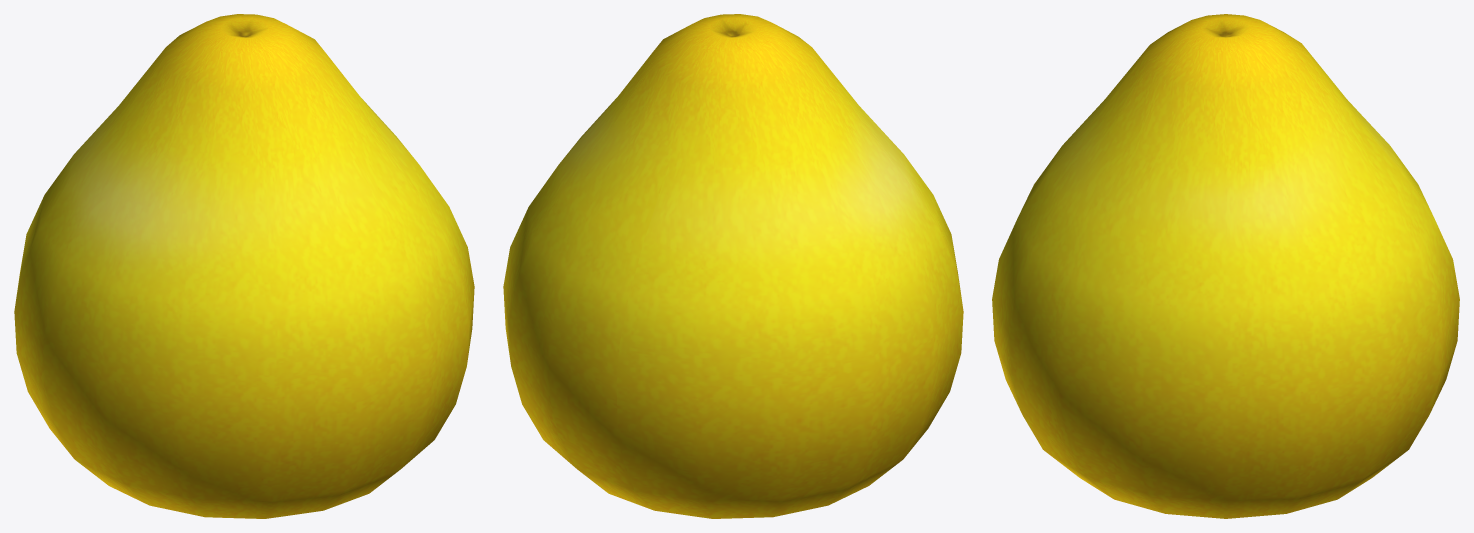
The model's file is Pomelo_Yellow.fbx.
3 views of the same model, side by side, from view 1: azimuth 30°, elevation 25°; view 2: azimuth 150°, elevation 25°; view 3: azimuth 270°, elevation 25° (orthographic).
Visible parts, largest first — view 1: Pomelo_Yellow; view 2: Pomelo_Yellow; view 3: Pomelo_Yellow.
Part boxes in pixels (x1=…): Pomelo_Yellow: x1=14, y1=14, x2=474, y2=518; Pomelo_Yellow: x1=503, y1=14, x2=963, y2=518; Pomelo_Yellow: x1=992, y1=14, x2=1459, y2=518.
Bounding box in the file's own units: 45.75 × 50.27 × 46.21.
